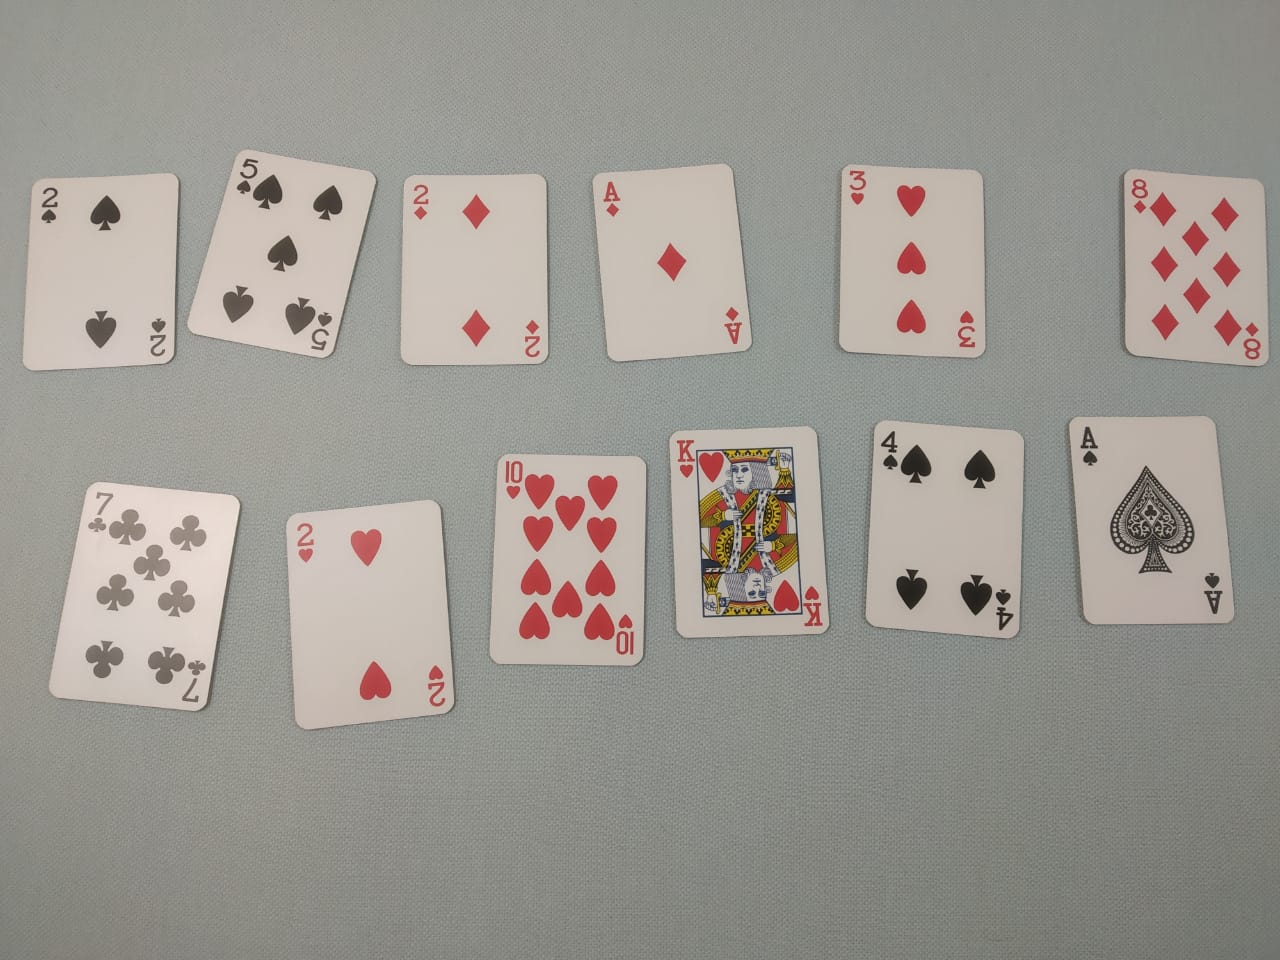ace: (566, 142, 786, 390), (1063, 400, 1249, 650)
eight: (1107, 147, 1279, 389)
five: (185, 122, 394, 399)
four: (852, 399, 1057, 684)
king: (651, 408, 870, 689)
seven: (58, 462, 236, 746)
ten: (483, 433, 674, 711)
three: (819, 146, 1013, 374)
two: (263, 496, 471, 737), (388, 159, 560, 389), (16, 162, 186, 386)
